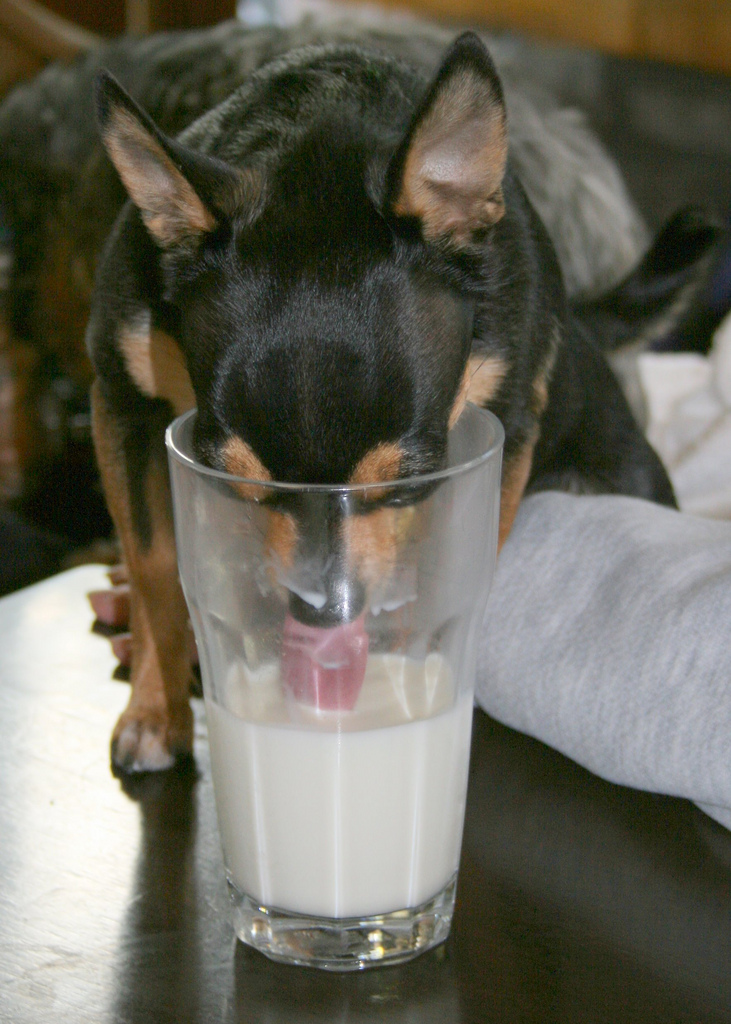glass of milk: (168, 460, 501, 959)
